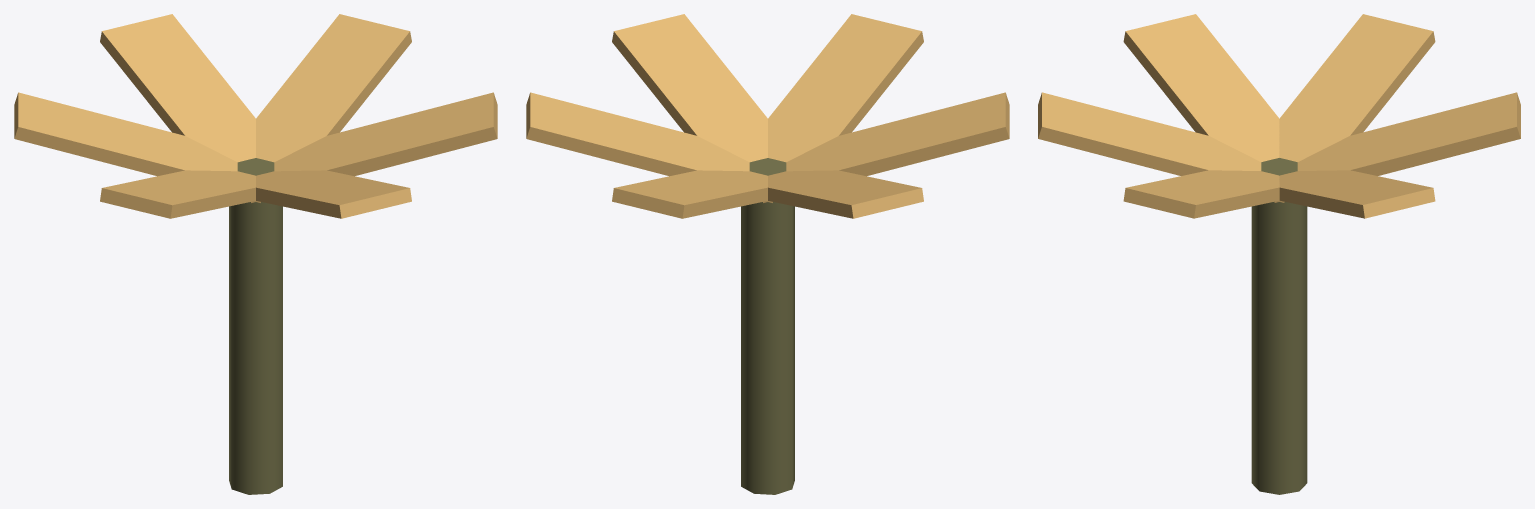
Rendered from banana_tree.glb.
3 views of the same model, side by side, from view 1: azimuth 30°, elevation 25°; view 2: azimuth 150°, elevation 25°; view 3: azimuth 270°, elevation 25° (orthographic).
Visible parts, largest first — view 1: _MeshInstance3D_5, _MeshInstance3D_12, _MeshInstance3D_14, _MeshInstance3D_16, _MeshInstance3D_10, _MeshInstance3D_8, _MeshInstance3D_18; view 2: _MeshInstance3D_5, _MeshInstance3D_8, _MeshInstance3D_10, _MeshInstance3D_18, _MeshInstance3D_12, _MeshInstance3D_14, _MeshInstance3D_16; view 3: _MeshInstance3D_5, _MeshInstance3D_16, _MeshInstance3D_18, _MeshInstance3D_8, _MeshInstance3D_14, _MeshInstance3D_12, _MeshInstance3D_10.
Boxes of the visible parts, bbox=[...] form: _MeshInstance3D_5: bbox=[229, 158, 282, 494]; _MeshInstance3D_12: bbox=[256, 14, 411, 162]; _MeshInstance3D_14: bbox=[100, 14, 255, 162]; _MeshInstance3D_16: bbox=[14, 92, 260, 202]; _MeshInstance3D_10: bbox=[251, 92, 497, 202]; _MeshInstance3D_8: bbox=[256, 170, 411, 218]; _MeshInstance3D_18: bbox=[100, 170, 255, 218]; _MeshInstance3D_5: bbox=[741, 158, 794, 494]; _MeshInstance3D_8: bbox=[768, 14, 923, 162]; _MeshInstance3D_10: bbox=[612, 14, 767, 162]; _MeshInstance3D_18: bbox=[763, 92, 1009, 202]; _MeshInstance3D_12: bbox=[526, 92, 772, 202]; _MeshInstance3D_14: bbox=[612, 170, 767, 218]; _MeshInstance3D_16: bbox=[768, 170, 923, 218]; _MeshInstance3D_5: bbox=[1251, 158, 1307, 494]; _MeshInstance3D_16: bbox=[1279, 14, 1435, 162]; _MeshInstance3D_18: bbox=[1123, 14, 1279, 162]; _MeshInstance3D_8: bbox=[1038, 92, 1284, 202]; _MeshInstance3D_14: bbox=[1274, 92, 1520, 202]; _MeshInstance3D_12: bbox=[1279, 170, 1435, 218]; _MeshInstance3D_10: bbox=[1123, 170, 1279, 218].
Size of the model in its own units: 3.94 by 3.54 by 4.15.
